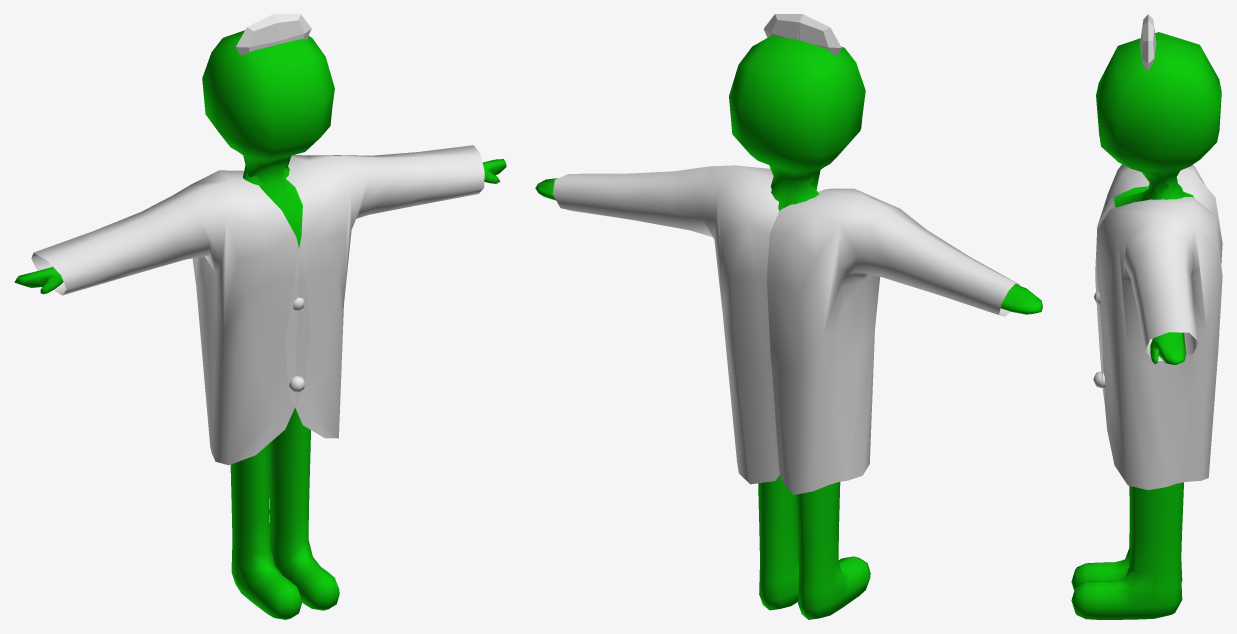
The model's file is hemsire.fbx.
The picture shows the model from 3 angles, left to right: view 1: azimuth 30°, elevation 25°; view 2: azimuth 150°, elevation 25°; view 3: azimuth 270°, elevation 25°; orthographic projection. The views are drawn at different scales.
Visible parts, largest first — view 1: character; view 2: character; view 3: character.
Part boxes in pixels (x1,y1,x2,y2): character: [14, 14, 506, 619]; character: [535, 14, 1042, 619]; character: [1071, 14, 1222, 619].
Bounding box in the file's own units: 1056 × 1190 × 277.
